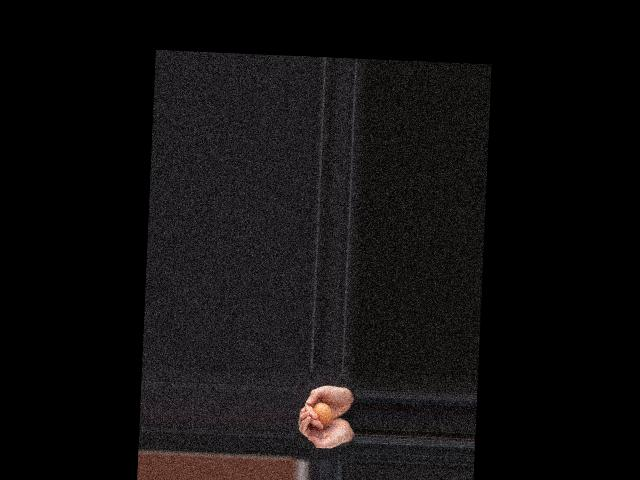egg: (312, 402, 333, 427)
